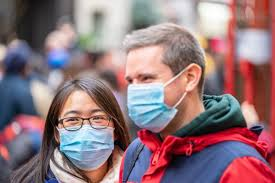with_mask: (126, 39, 204, 133), (53, 86, 120, 169)
